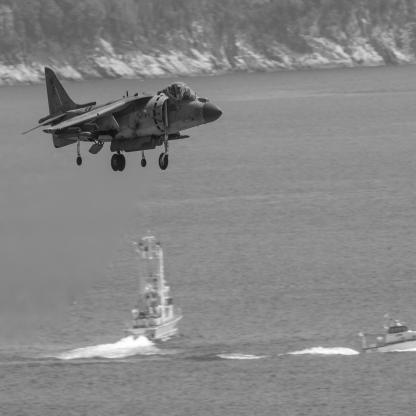AV8B: (22, 67, 224, 173)
